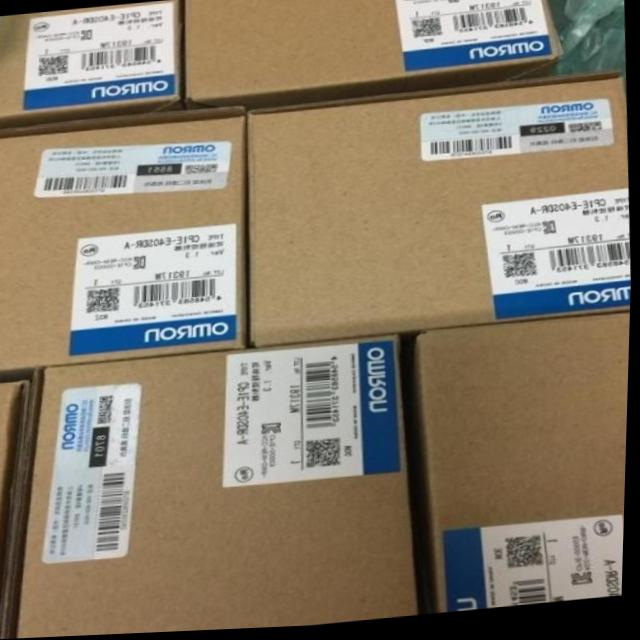box: (11, 336, 423, 639), (246, 76, 633, 349), (0, 106, 250, 383), (420, 316, 632, 618), (186, 0, 564, 113), (0, 1, 186, 128), (0, 381, 30, 639)
